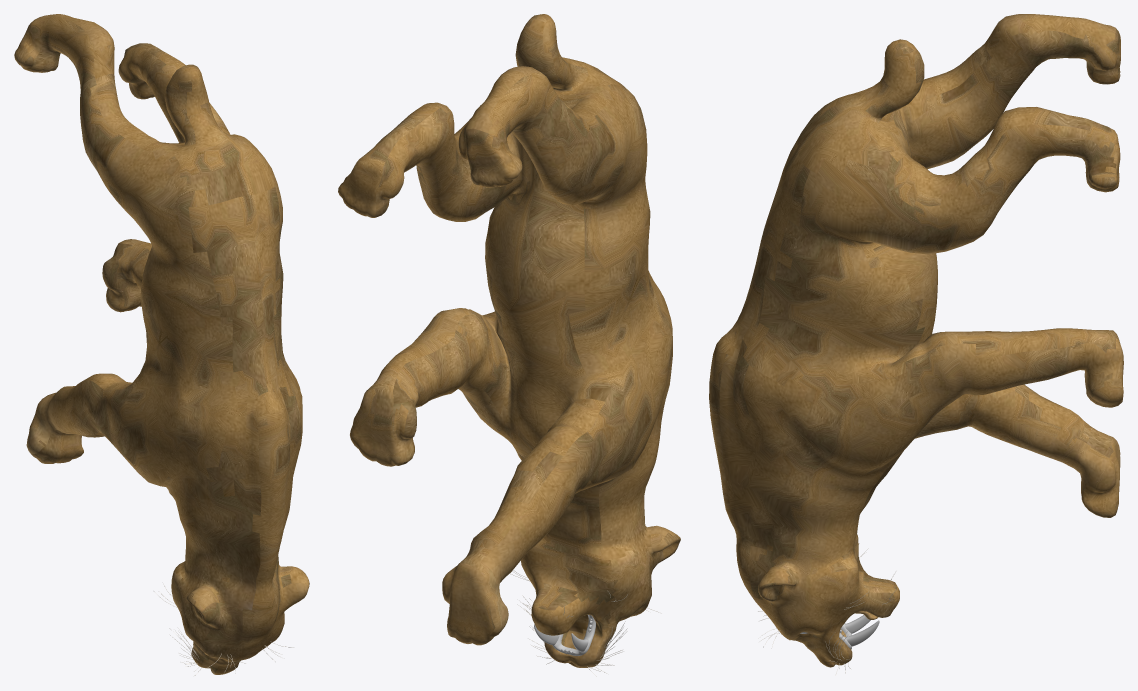
Rendered from tooth.fbx.
3 views of the same model, side by side, from view 1: azimuth 30°, elevation 25°; view 2: azimuth 150°, elevation 25°; view 3: azimuth 270°, elevation 25° (orthographic). The views are drawn at different scales.
Visible parts, largest first — view 1: 12230_smilodon_v1_l2; view 2: 12230_smilodon_v1_l2; view 3: 12230_smilodon_v1_l2.
Boxes of the visible parts, x1,y1,x2,y2 form: 12230_smilodon_v1_l2: (14, 14, 309, 675); 12230_smilodon_v1_l2: (338, 14, 680, 676); 12230_smilodon_v1_l2: (709, 14, 1123, 675).
Bounding box in the file's own units: 4764 × 17464 × 10427.
